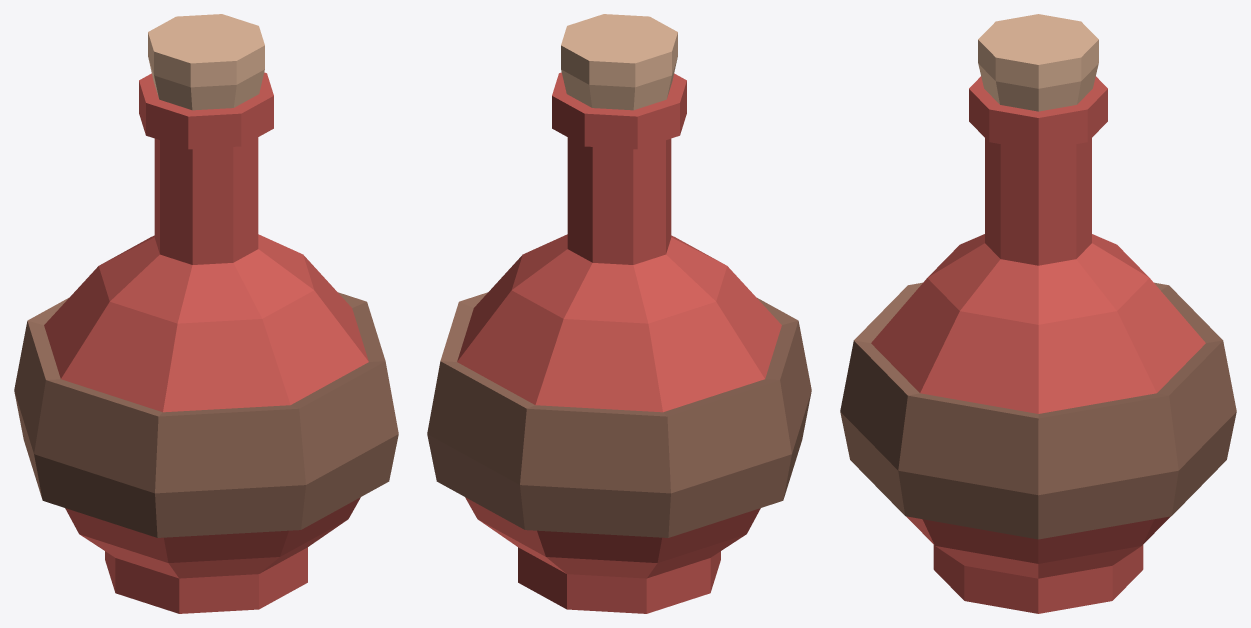
The model's file is Potion D.glb.
3 renders of one model, left to right at view 1: azimuth 30°, elevation 25°; view 2: azimuth 150°, elevation 25°; view 3: azimuth 270°, elevation 25°, orthographic.
Parts seen in each view (by area): view 1: Potion D; view 2: Potion D; view 3: Potion D.
Boxes of the visible parts, x1,y1,x2,y2 form: Potion D: (14, 14, 398, 613); Potion D: (427, 14, 811, 613); Potion D: (840, 14, 1236, 613).
Size of the model in its own units: 0.0787 by 0.1161 by 0.0787.
